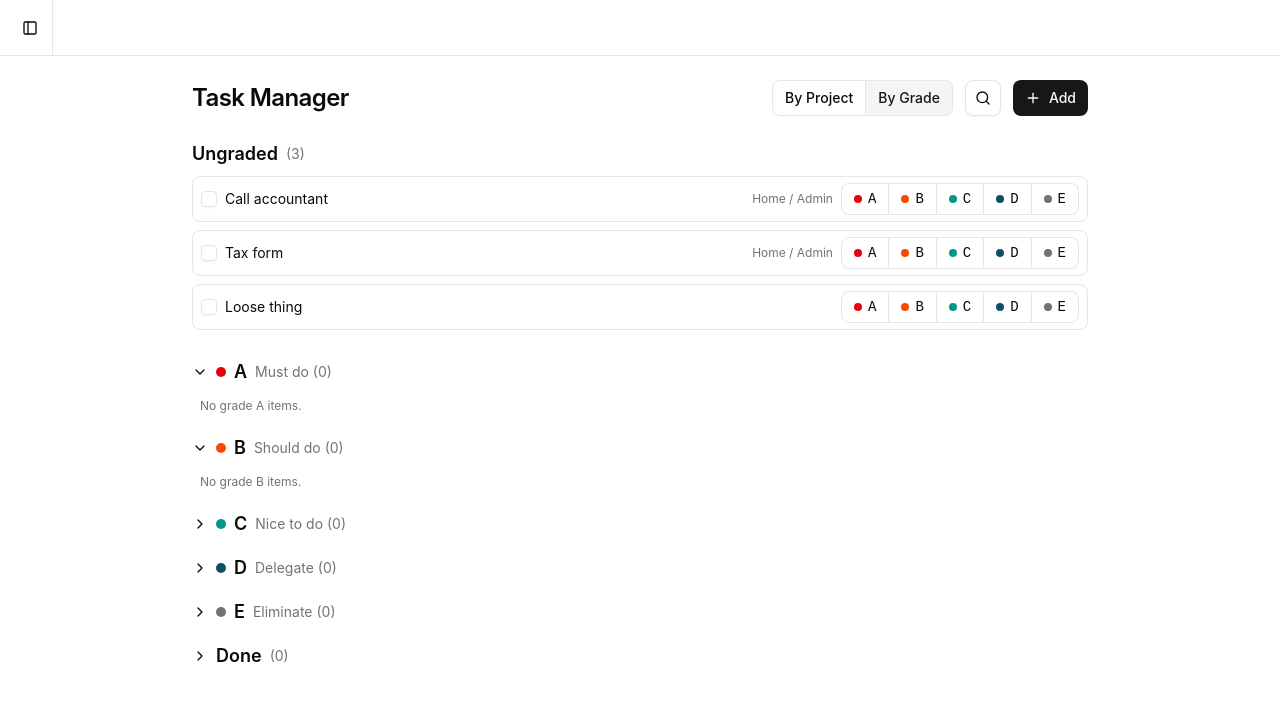
Task Manager: capture and grading › one click grades an ungraded item and ranks it in its grade group
Click the radio button named "Grade A" at (865, 199), box 841,183 -> 889,215
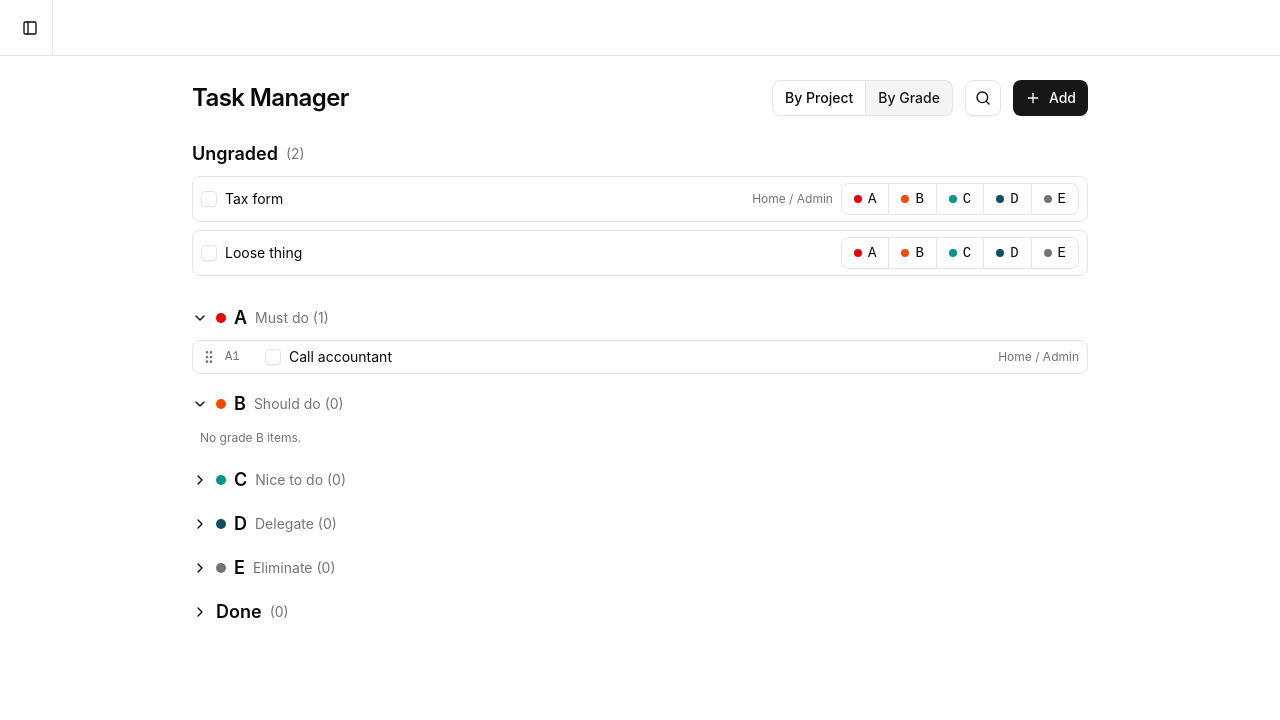
Check: the button "Call accountant" is shown, box 289,347 -> 990,367
Check: the text with test id "rank" reads "A1", box 225,350 -> 239,364
Click the radio button named "Grade A" at (865, 199), box 841,183 -> 889,215
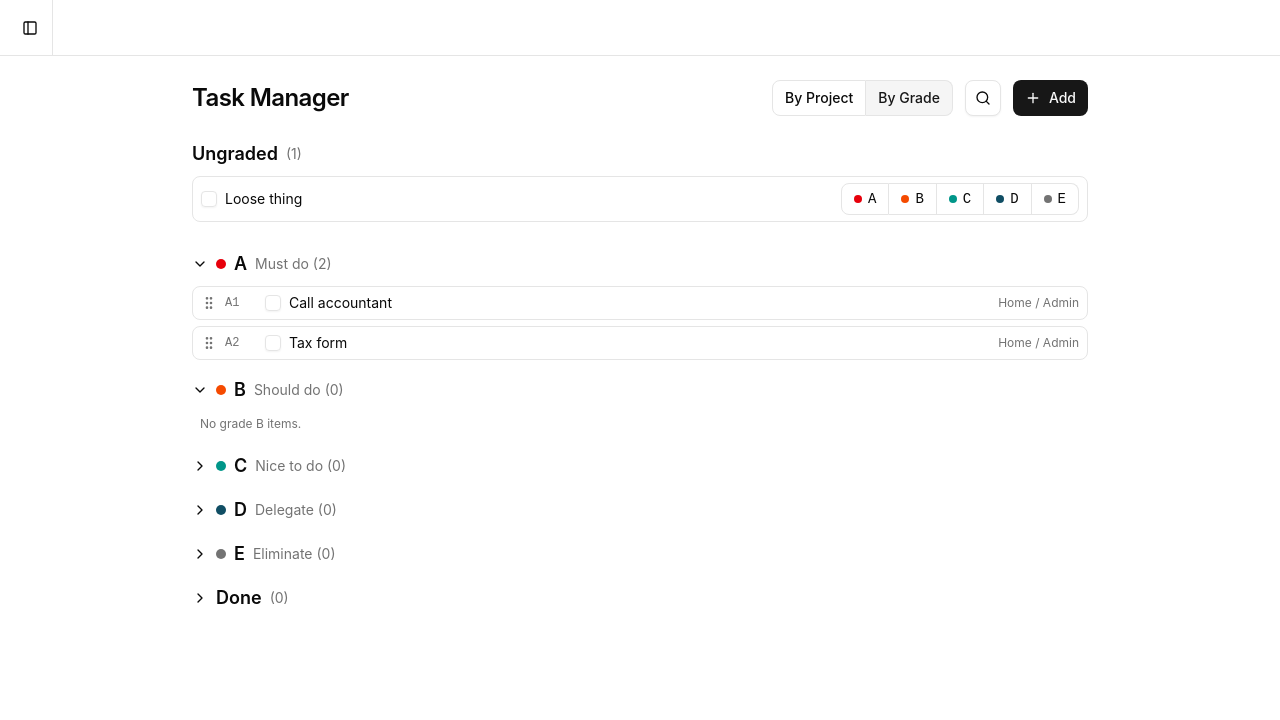
Check: the elements with test id "rank" read "A1", "A2", in this order, box 225,296 -> 239,310; 225,336 -> 239,350
